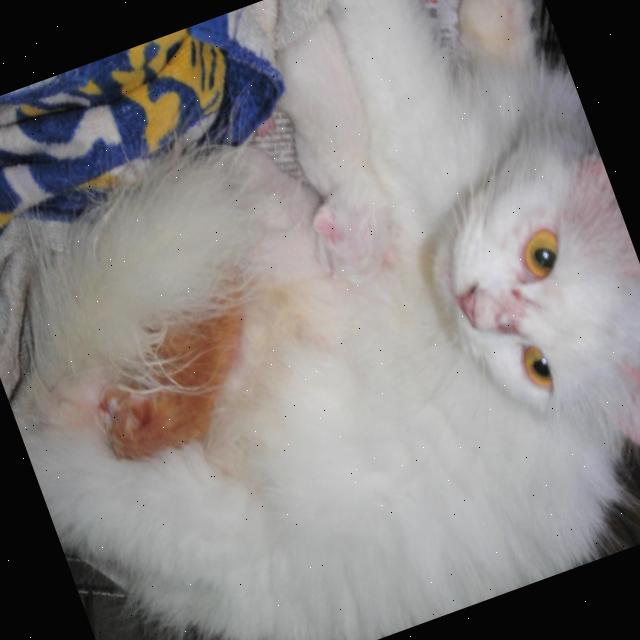cat-lump-and-bump: (482, 280, 542, 338)
